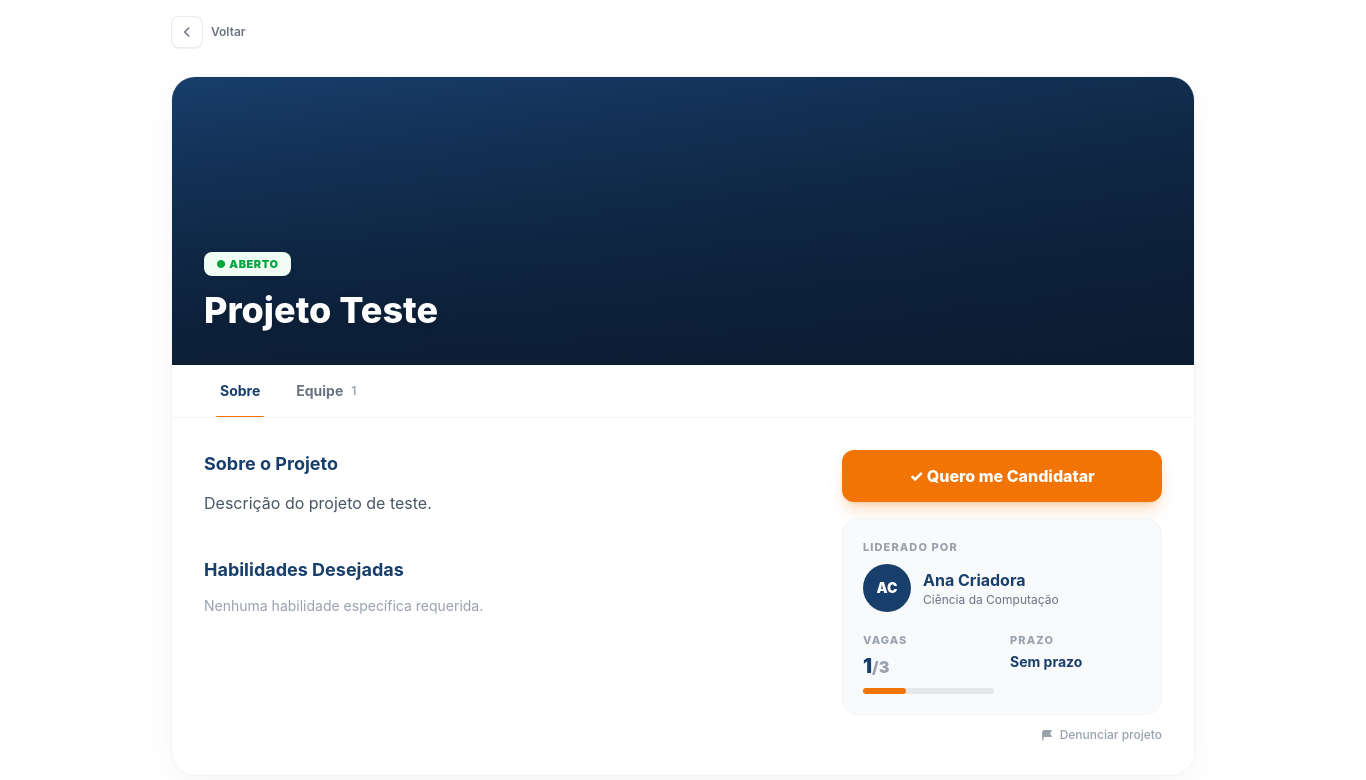
Test: DetalhesProjeto › permite que um candidato envie uma candidatura
Click the button "✓ Quero me Candidatar".
click(1002, 476)  # box [842,450,1162,502]
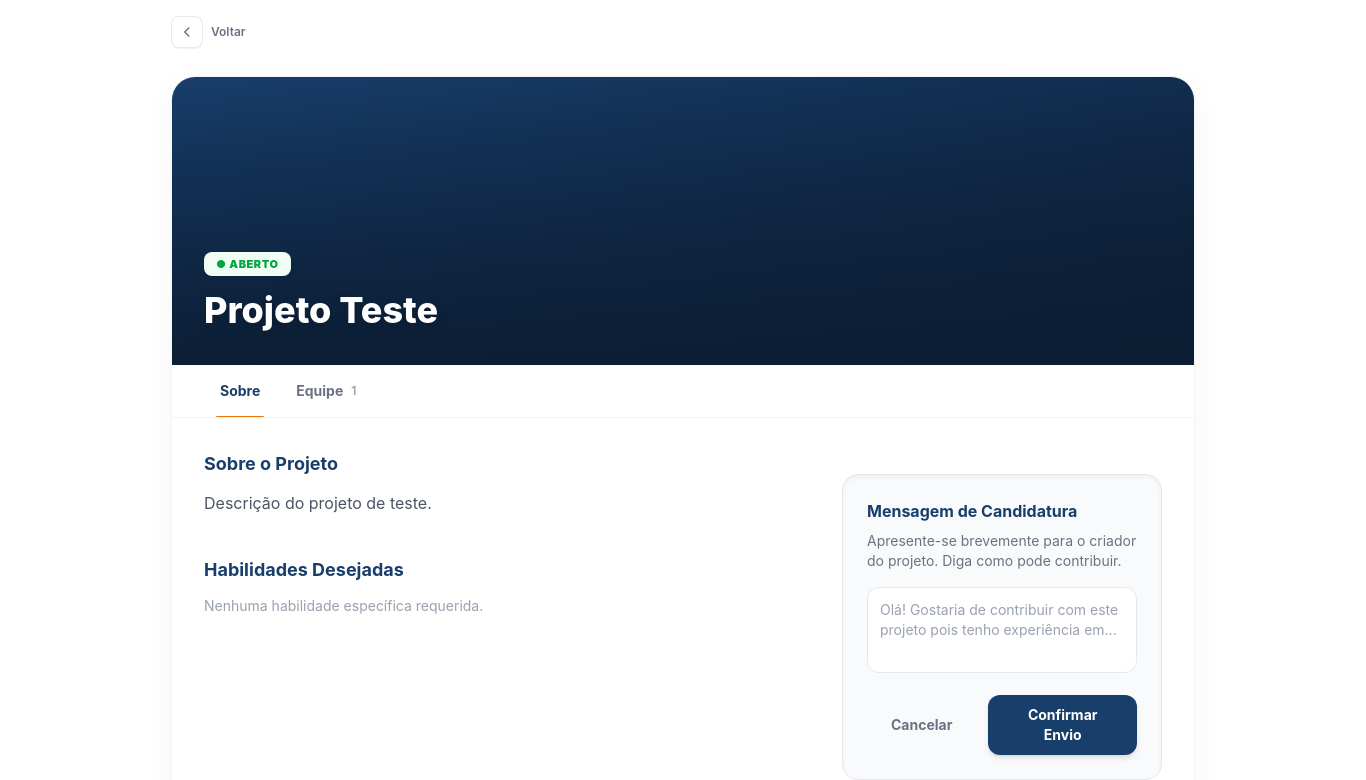
Type "Quero participar" into the text box with placeholder "Gostaria de contribuir".
click(1002, 630); type("Quero participar")  # box [867,587,1137,673]
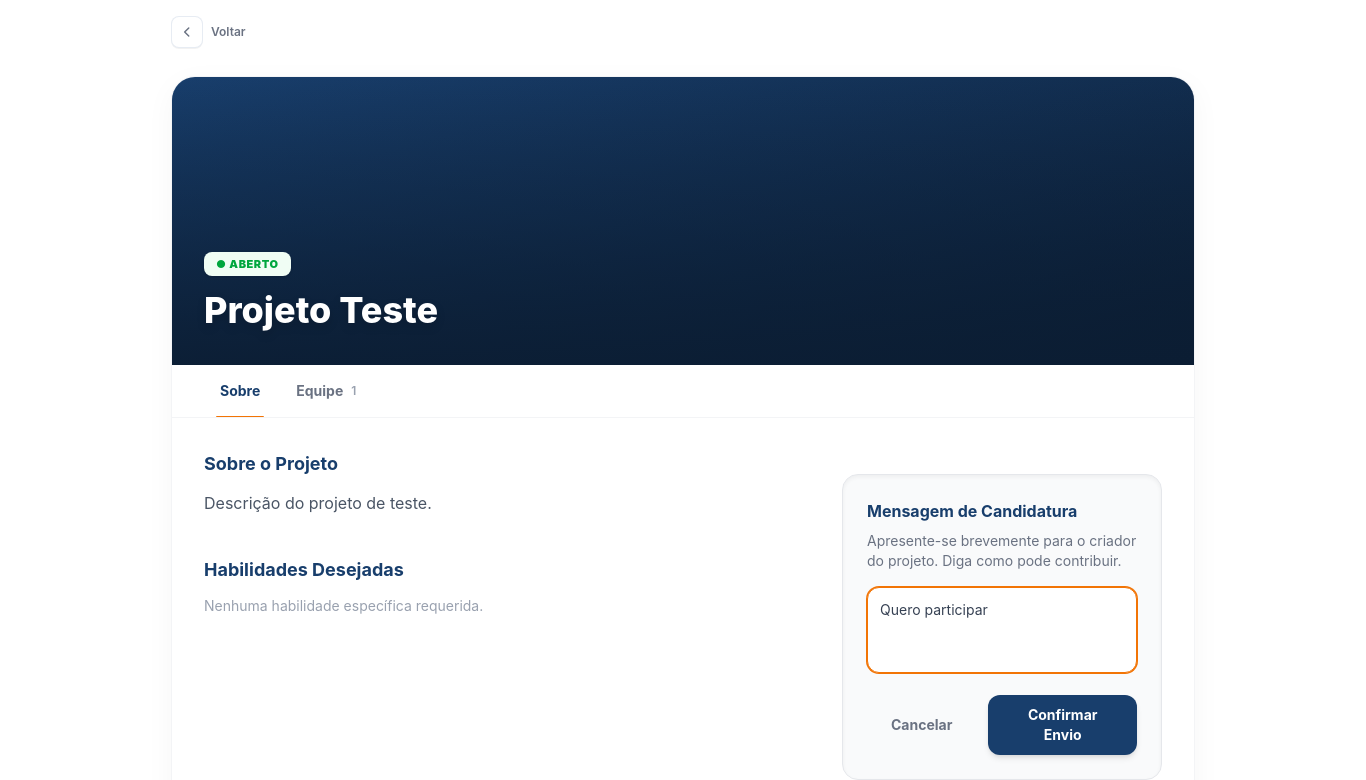
Click the button "Confirmar Envio".
click(1063, 725)  # box [988,695,1137,755]
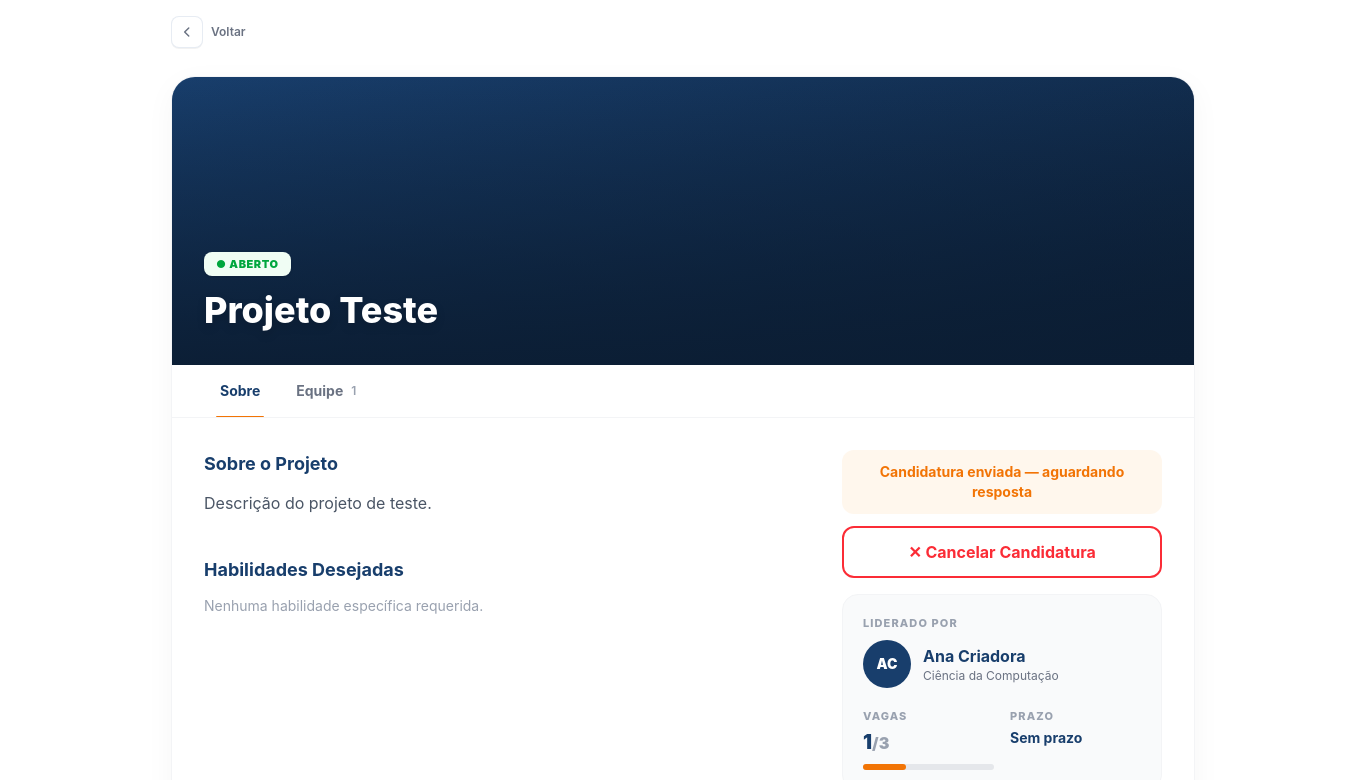
Expected: the text "Candidatura enviada — aguardando resposta" is shown, [842,450,1162,514]
